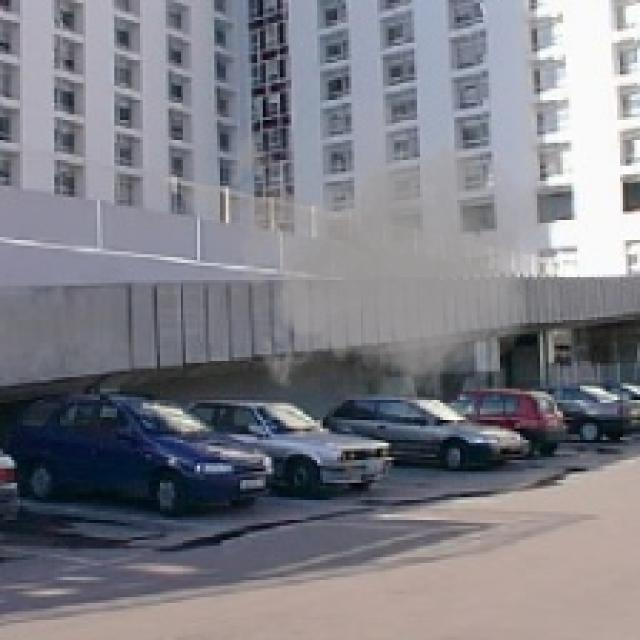Smoke: (220, 83, 563, 440)
